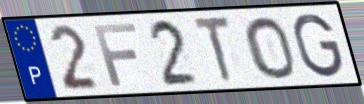2: (47, 22, 104, 93), (148, 17, 200, 88)
F: (91, 21, 140, 88)
G: (291, 12, 346, 80)
O: (241, 14, 299, 81)
T: (191, 14, 236, 86)
